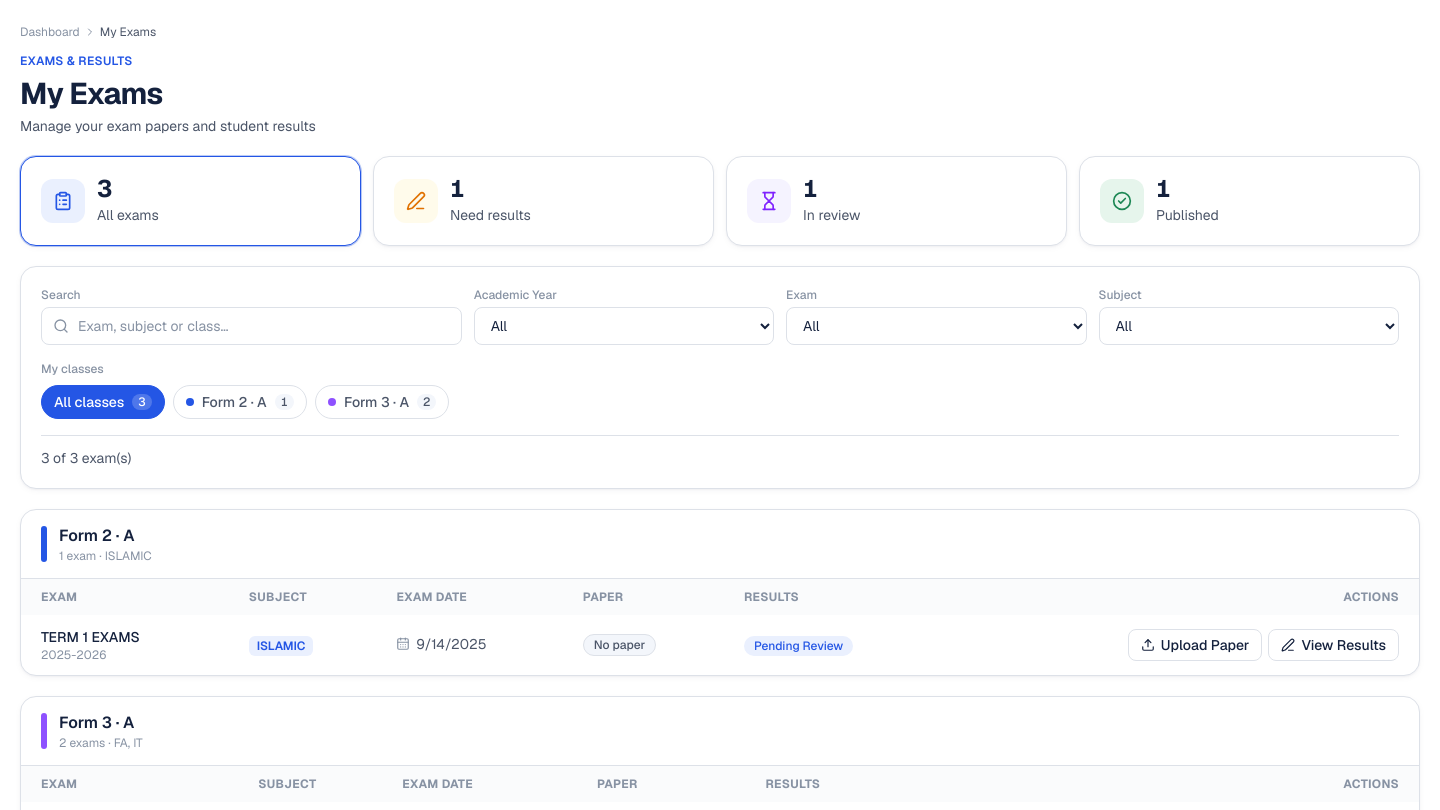
Test: My Exams — grouped by class › searches exams, subjects and classes
This screenshot has width=1440, height=810.
Step 1. Type "islamic" into the search field labelled "Search" → (251,326), box [41,307,462,345]
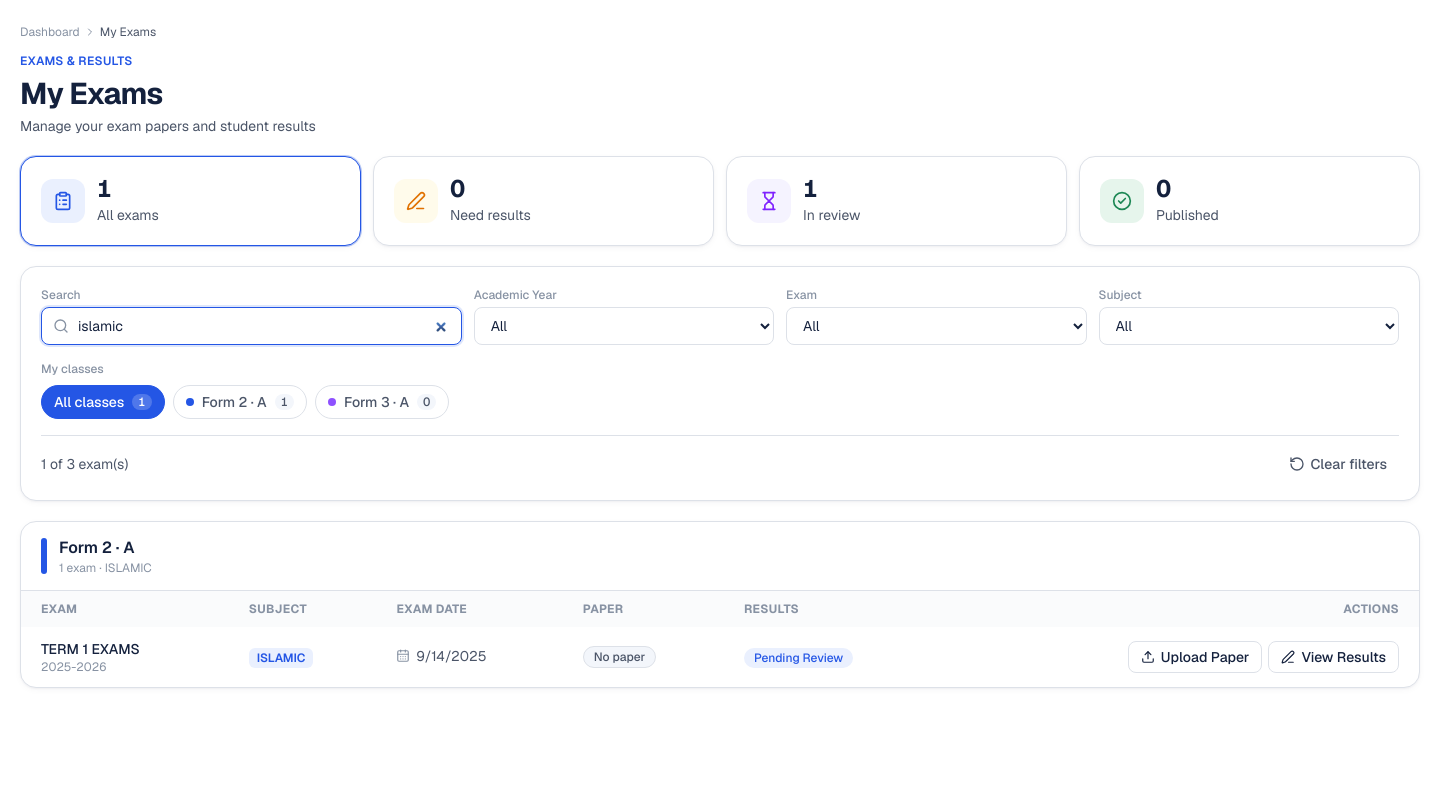
Expected: the element "Form 2 · A" is shown, [20,521,1420,688]
Expected: the text "1 of 3 exam(s)" is shown, [41,454,128,474]
